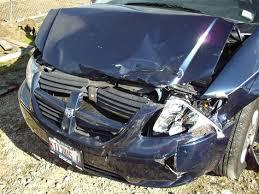Headlight-Damage: (156, 87, 226, 145)
bonnet-dent: (44, 0, 214, 87)
front-bumper-dent: (36, 92, 139, 171)
